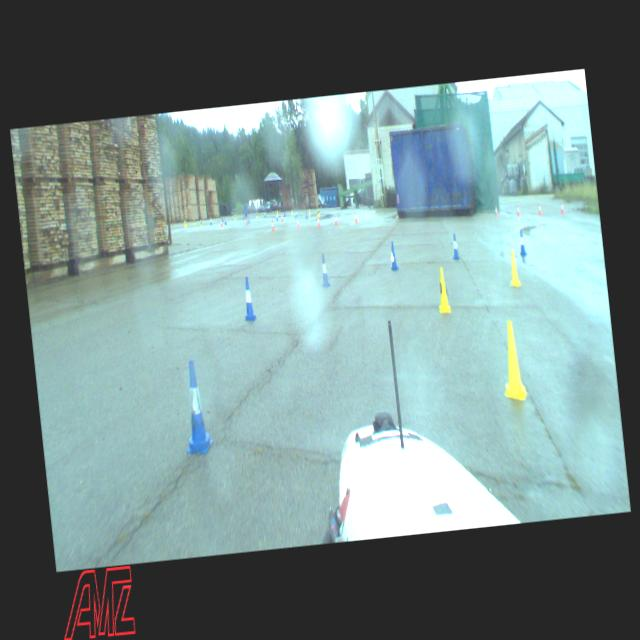blue_cone: (177, 358, 214, 456), (240, 276, 257, 321), (318, 253, 332, 287), (516, 228, 528, 256), (450, 232, 461, 261), (388, 240, 398, 271), (304, 210, 308, 219), (247, 214, 250, 223), (275, 212, 278, 220), (224, 217, 226, 224)
orange_cone: (537, 202, 542, 215), (333, 215, 338, 226), (270, 219, 274, 232), (516, 203, 520, 216), (560, 201, 564, 214), (494, 204, 498, 217), (354, 211, 358, 223), (316, 215, 320, 227), (296, 218, 300, 230), (280, 212, 283, 222), (245, 215, 248, 225), (220, 217, 222, 227)
yellow_cone: (497, 319, 528, 402), (434, 265, 451, 314), (505, 248, 521, 288), (255, 210, 258, 218), (316, 208, 319, 216), (233, 213, 236, 220), (200, 218, 202, 228), (318, 208, 320, 215)
